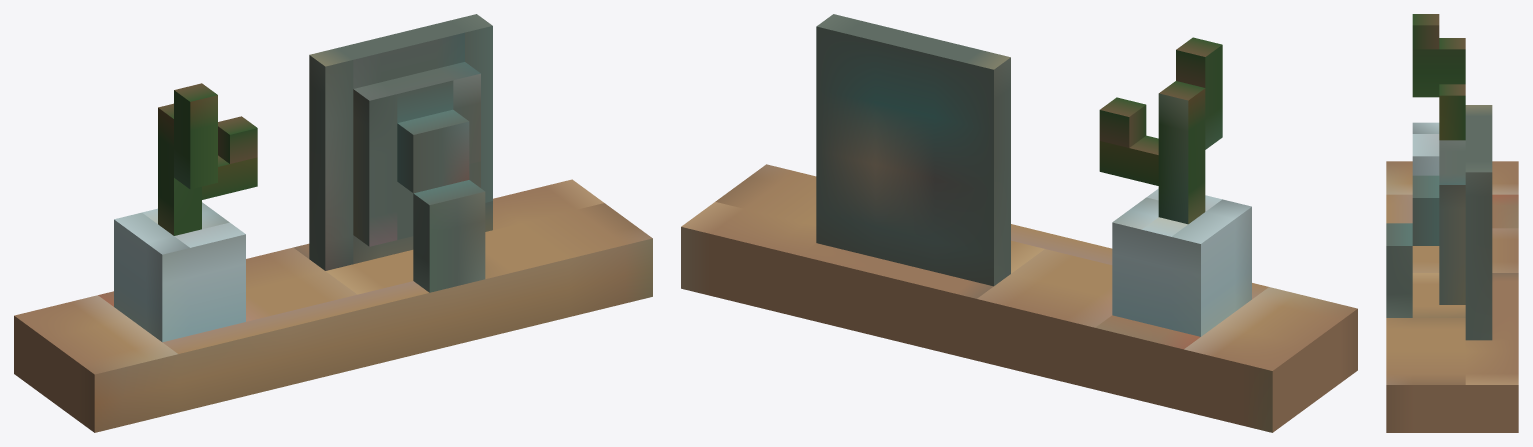
Rendered from ShelfWithItems_A_02.fbx.
The picture shows the model from 3 angles, left to right: view 1: azimuth 30°, elevation 25°; view 2: azimuth 150°, elevation 25°; view 3: azimuth 270°, elevation 25°; orthographic projection. The views are drawn at different scales.
Parts seen in each view (by area): view 1: ShelfWithItems_A_02; view 2: ShelfWithItems_A_02; view 3: ShelfWithItems_A_02.
Part boxes in pixels (left/top/right/bottom): ShelfWithItems_A_02: left=14, top=14, right=652, bottom=432; ShelfWithItems_A_02: left=681, top=14, right=1357, bottom=432; ShelfWithItems_A_02: left=1386, top=14, right=1518, bottom=432.
Size of the model in its own units: 100 by 25 by 50.
1 material, 1 textured.
